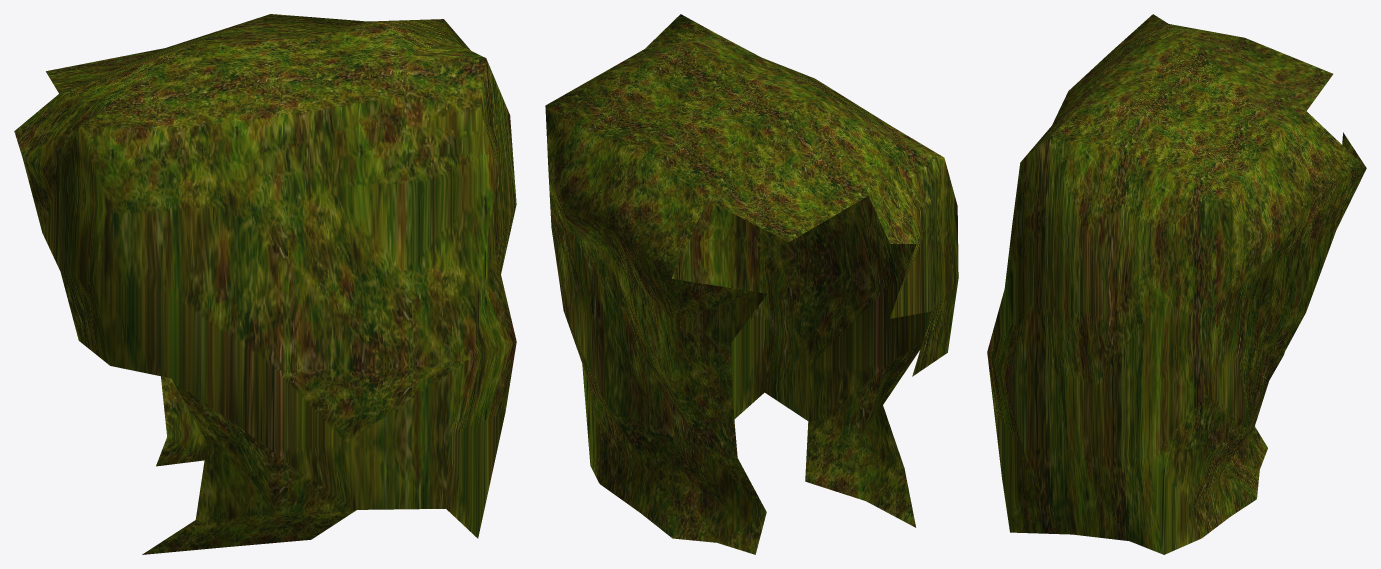
The model's file is TROLLHOLE02_BOX329.fbx.
3 views of the same model, side by side, from view 1: azimuth 30°, elevation 25°; view 2: azimuth 150°, elevation 25°; view 3: azimuth 270°, elevation 25° (orthographic). The views are drawn at different scales.
Visible parts, largest first — view 1: TROLLHOLE02_BOX329; view 2: TROLLHOLE02_BOX329; view 3: TROLLHOLE02_BOX329.
Boxes of the visible parts, x1,y1,x2,y2 form: TROLLHOLE02_BOX329: (14, 14, 516, 554); TROLLHOLE02_BOX329: (545, 14, 958, 554); TROLLHOLE02_BOX329: (987, 14, 1366, 554).
Bounding box in the file's own units: 101926 × 108608 × 88668.
Materials: 1 (1 with a texture image).
